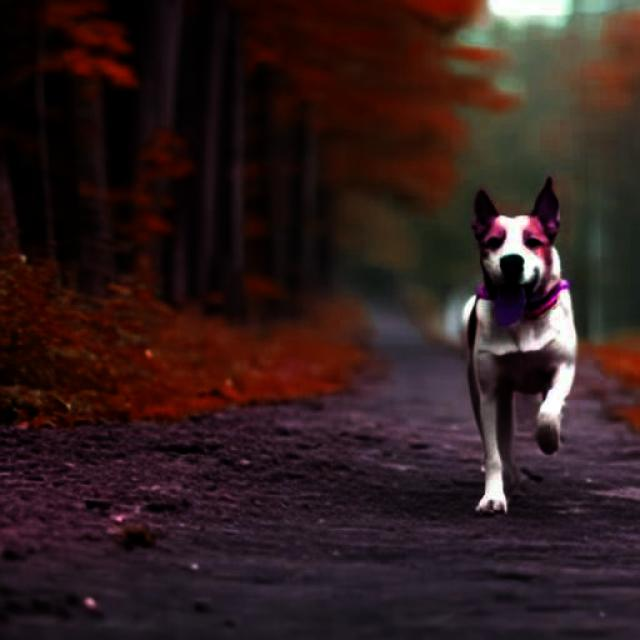Dog: (463, 176, 578, 516)
